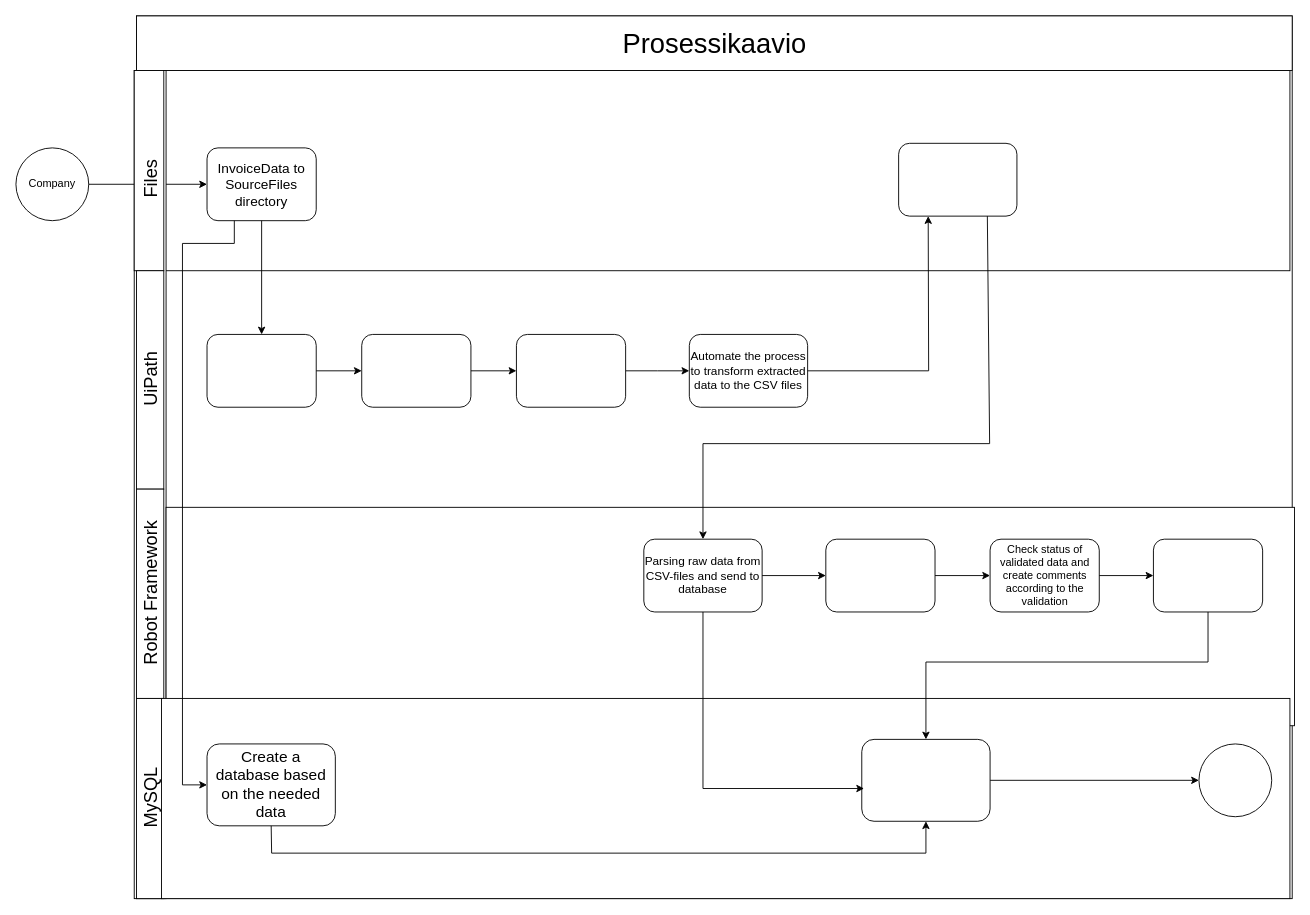
This 1310x915 diagram has some shape labels left out. The shapes that lost their labels are listed below. From the top down, each one's centre as x and y in pixels, then its label:
the point at 957,179: CSV-Files to Results directory
the point at 261,370: Exctract all data as it is
the point at 571,370: Check data and collect all the necessary information from .pdf
the point at 880,575: Create validation process to parsed data
the point at 1208,575: Update validated data, status and comments to database
the point at 925,779: MySQL Database
